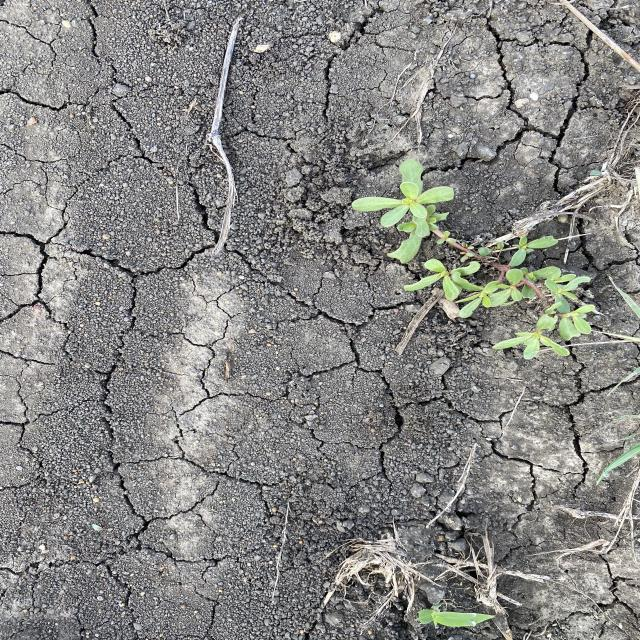Purslane: (350, 155, 598, 363)
